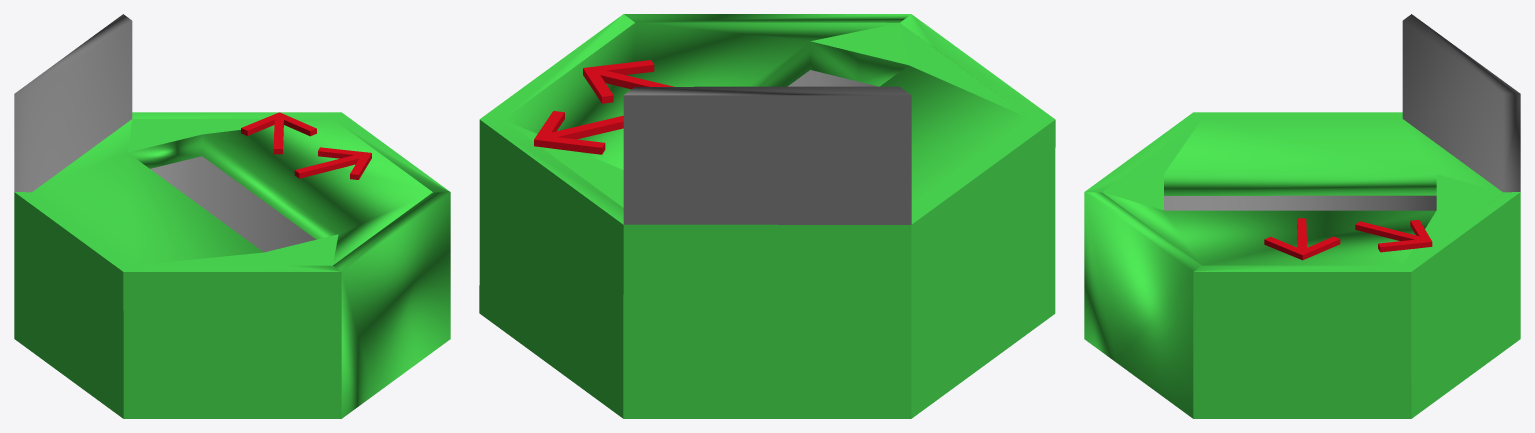
Rendered from ResourceTileStage1_1.fbx.
3 renders of one model, left to right at view 1: azimuth 30°, elevation 25°; view 2: azimuth 150°, elevation 25°; view 3: azimuth 270°, elevation 25°, orthographic. The views are drawn at different scales.
Visible parts, largest first — view 1: ResourceTileStage1_1; view 2: ResourceTileStage1_1; view 3: ResourceTileStage1_1.
Boxes of the visible parts, left/top/right/bottom form: ResourceTileStage1_1: left=14, top=14, right=450, bottom=418; ResourceTileStage1_1: left=479, top=14, right=1055, bottom=418; ResourceTileStage1_1: left=1084, top=14, right=1520, bottom=418.
Bounding box in the file's own units: 173 × 124 × 200.
